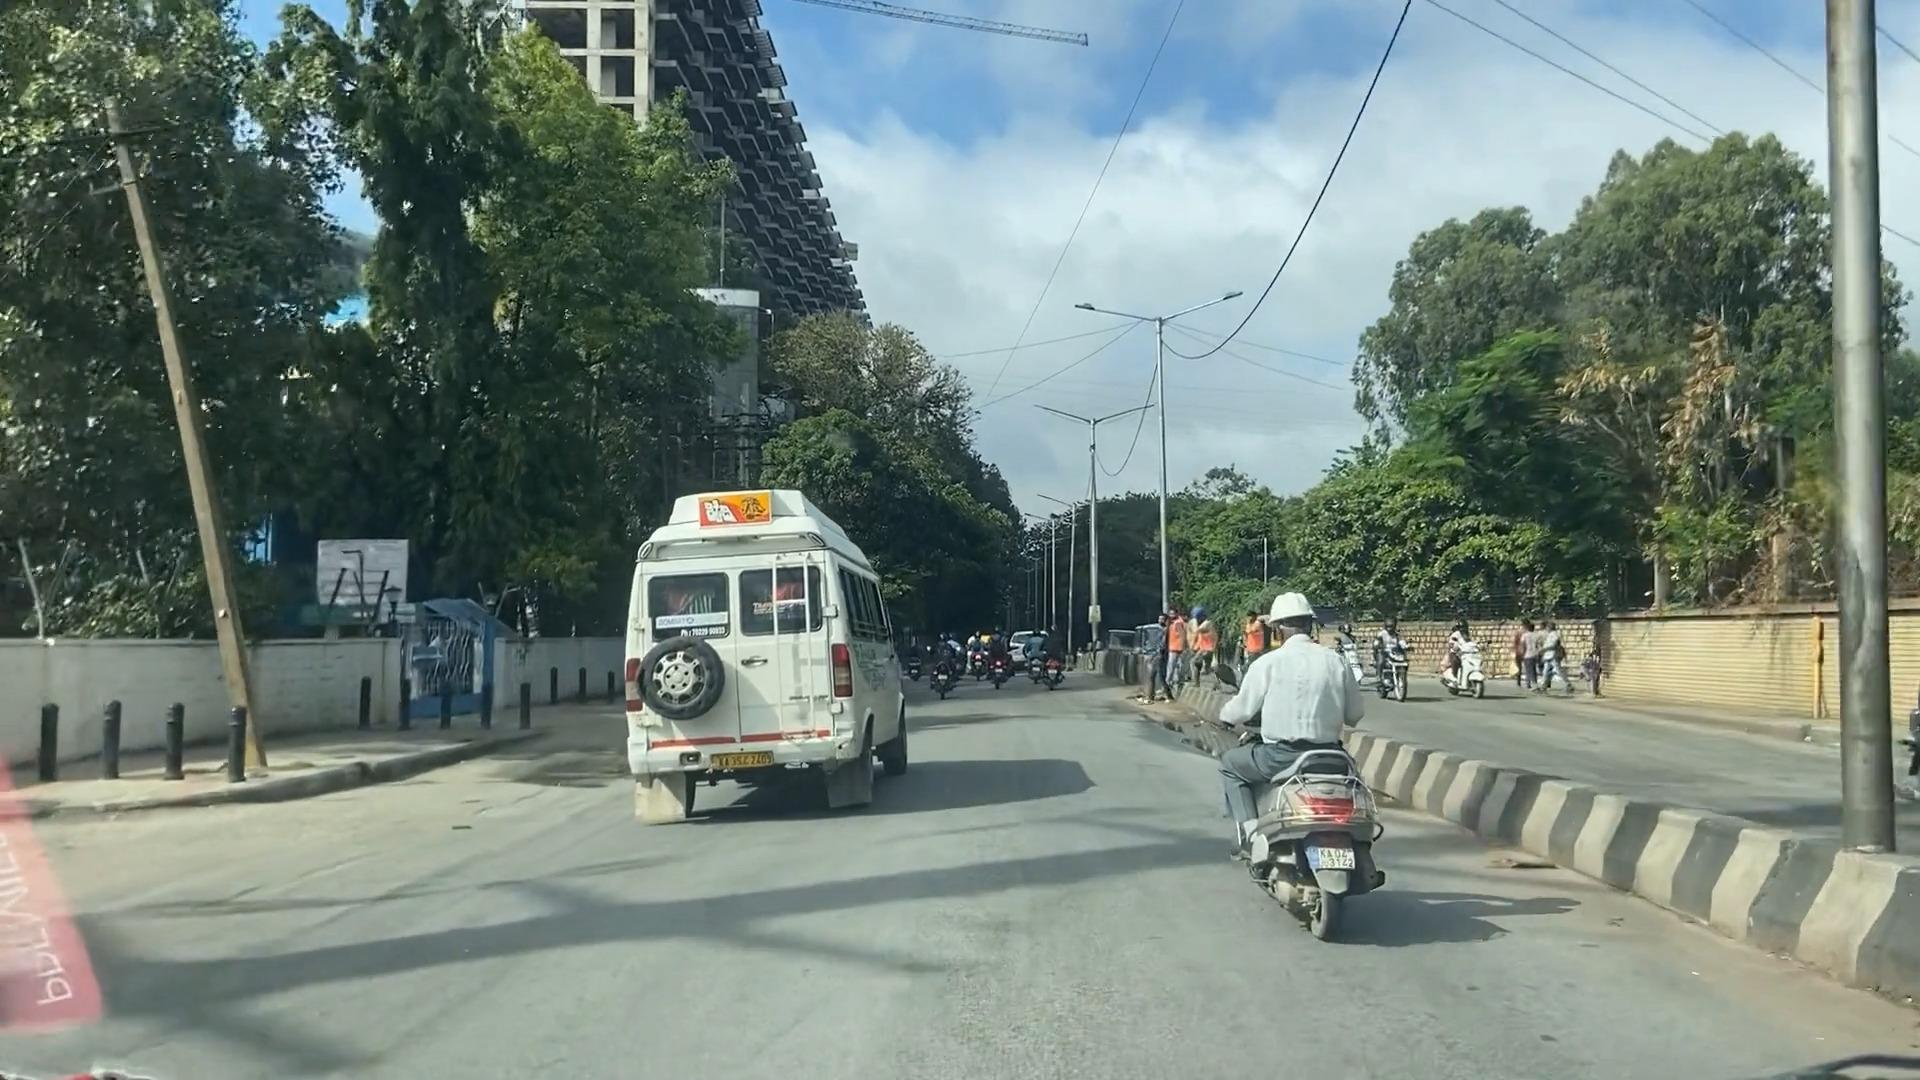HMV: (611, 493, 911, 840)
LMV: (1216, 613, 1389, 940)
